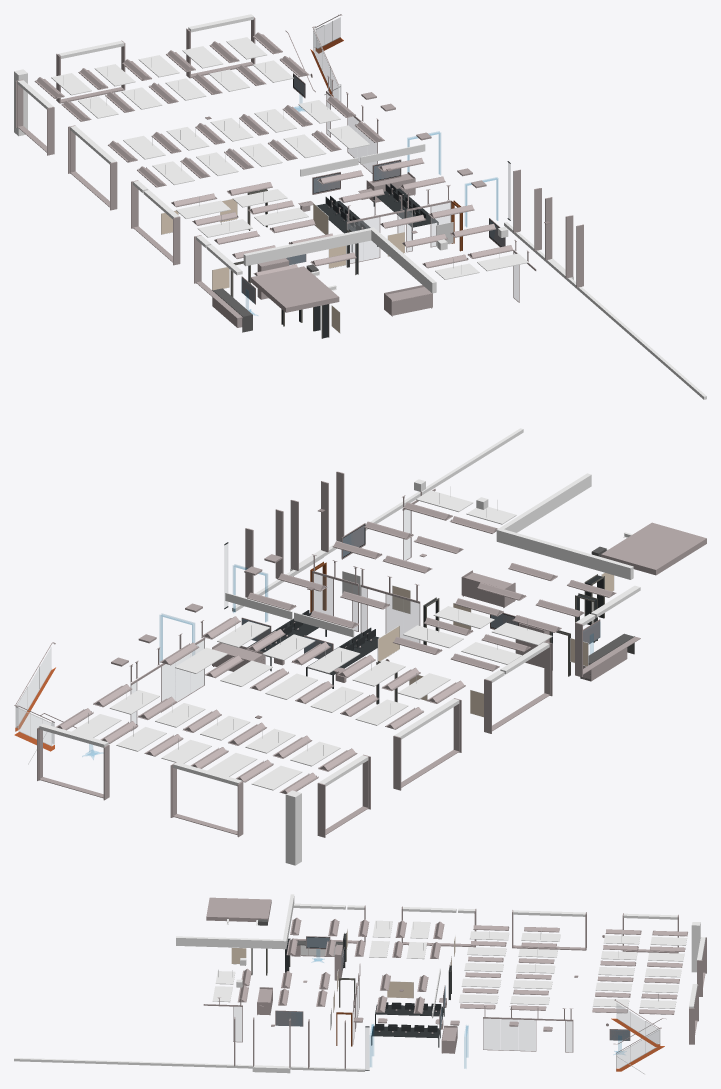
3 renders of one model, top to bottom at view 1: azimuth 30°, elevation 25°; view 2: azimuth 150°, elevation 25°; view 3: azimuth 270°, elevation 25°, orthographic. The views are drawn at different scales.
Parts seen in each view (by area): view 1: 1, 2, 0, 4, 6, 8, 10, 12, 11; view 2: 1, 2, 0, 4, 6, 8, 10, 12; view 3: 2, 1, 0, 4, 8, 10, 6, 12, 5.
Part boxes in pixels (box(x1,y1,x2,y2)): 1: box(15, 14, 583, 327); 2: box(14, 14, 706, 399); 0: box(313, 17, 518, 301); 4: box(231, 161, 510, 338); 6: box(161, 199, 404, 332); 8: box(205, 73, 550, 304); 10: box(243, 78, 497, 315); 12: box(230, 189, 358, 338); 11: box(212, 264, 318, 332); 1: box(14, 471, 706, 837); 2: box(15, 428, 640, 865); 0: box(16, 509, 419, 745); 4: box(224, 542, 603, 703); 6: box(378, 573, 613, 716); 8: box(241, 509, 600, 718); 10: box(82, 534, 599, 759); 12: box(376, 574, 604, 704); 2: box(14, 894, 705, 1074); 1: box(203, 897, 706, 1069); 0: box(233, 986, 659, 1070); 4: box(252, 933, 451, 1070); 8: box(271, 936, 630, 1040); 10: box(291, 938, 628, 1067); 6: box(231, 929, 455, 1011); 12: box(251, 933, 451, 1007); 5: box(611, 1018, 664, 1071).
Size of the model in its own units: 19.59 by 5.48 by 46.88.
